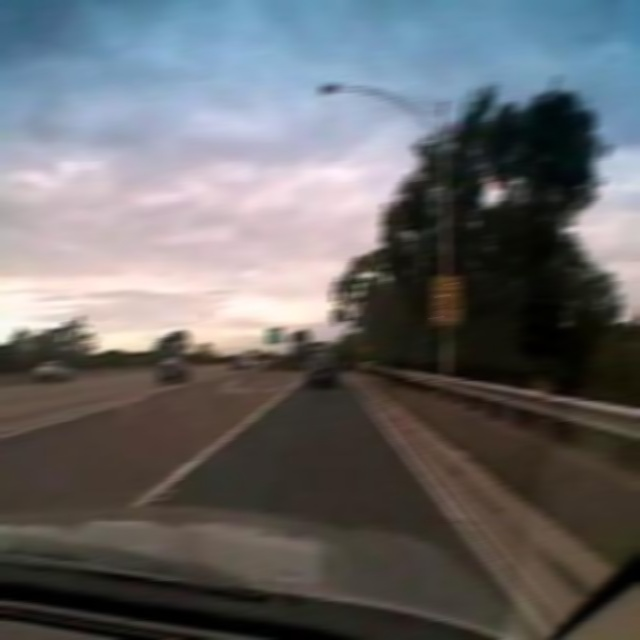rampSpeedAdvisoryUrdbl: (432, 277, 461, 326)
